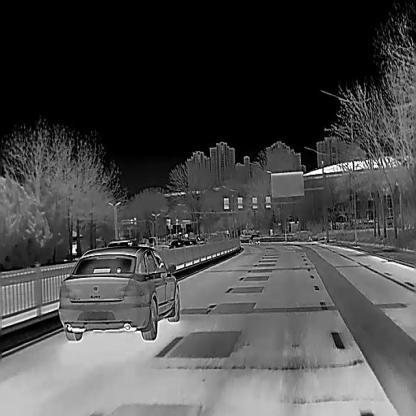car: (54, 247, 181, 341), (168, 239, 192, 250), (247, 232, 262, 244)
